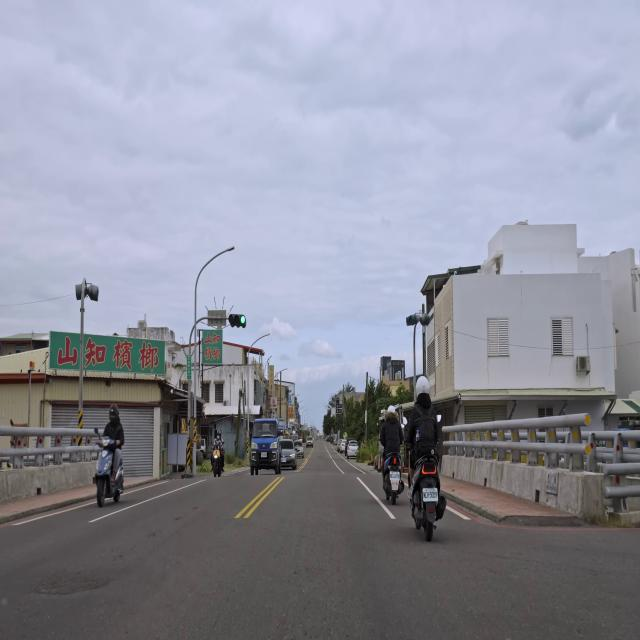green light: (228, 312, 246, 328)
